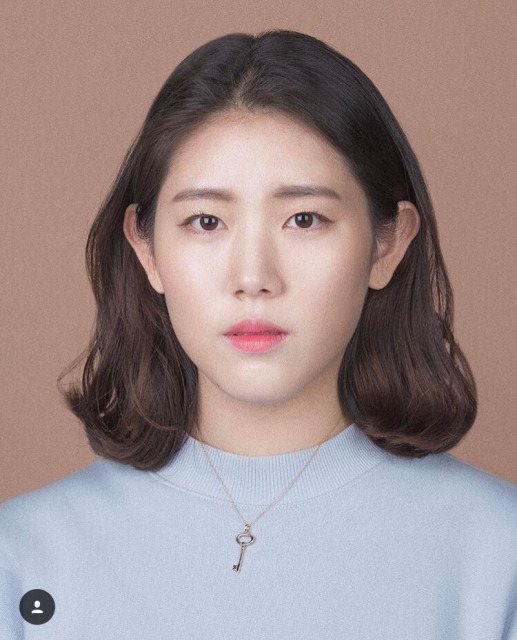unmask: (168, 138, 358, 384)
